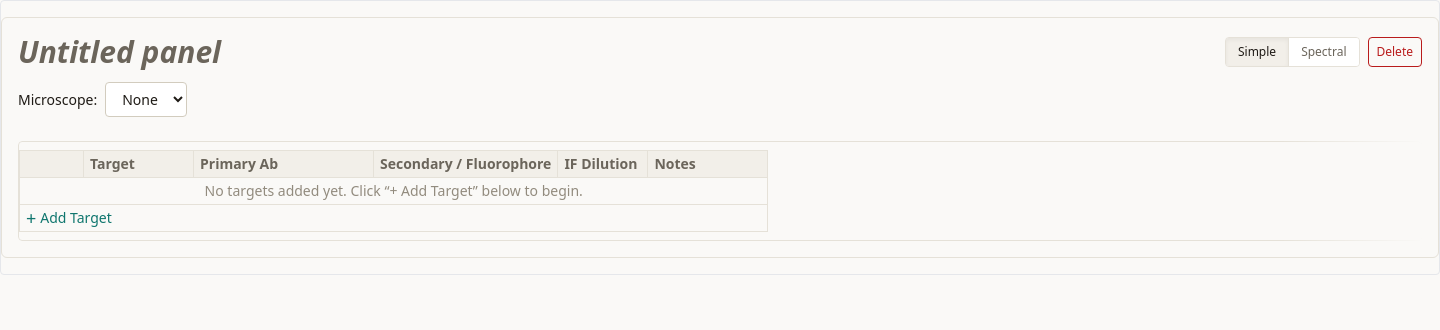
it: IfPanelView › Test 6 — empty name renders a clickable "Untitled panel" placeholder that is editable
Click the heading "Untitled panel" at (120, 52), box [18,34,221,70]
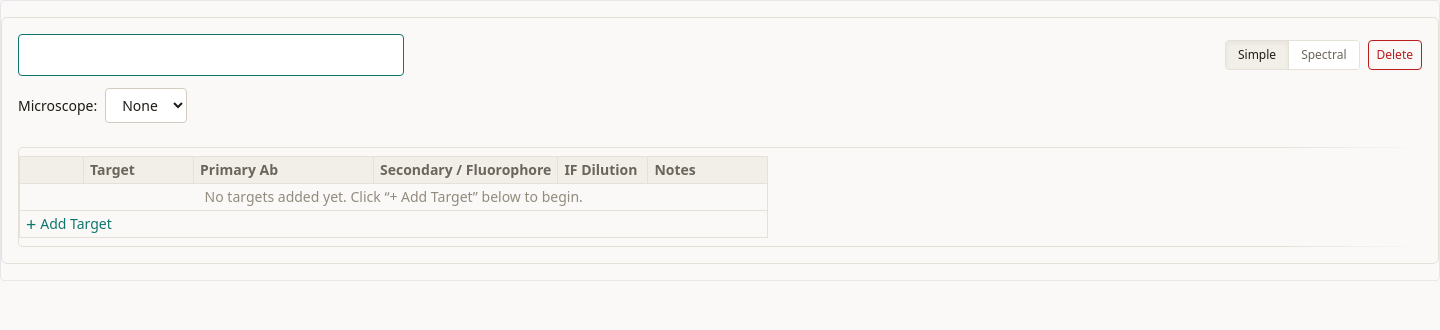
Type "Named IF Panel" into the field at (211, 55), box [18,34,404,76]
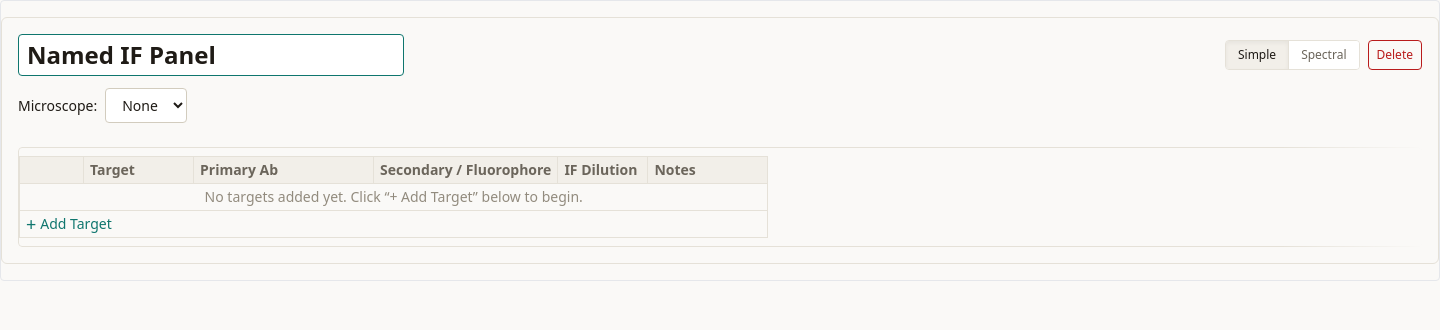
Leave the field, box [18,34,404,76]
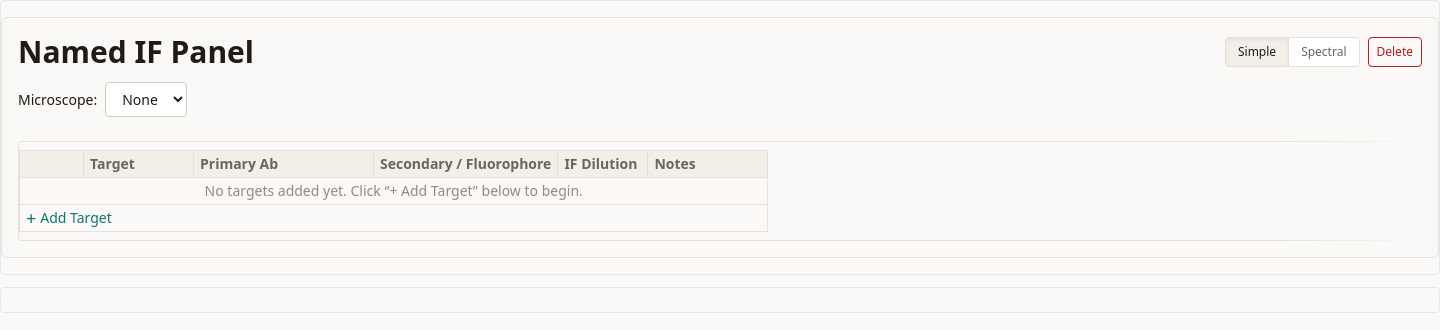
Expected: the heading "Named IF Panel" is shown, [18,34,254,70]
